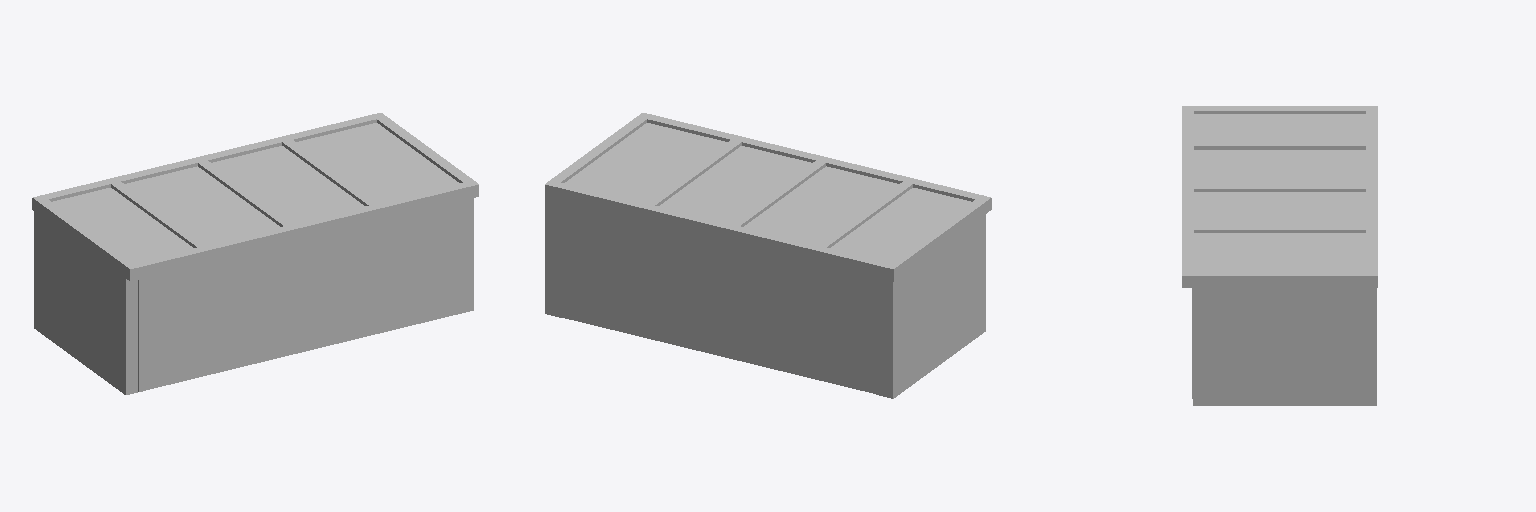
Rendered from CasaDescanso.obj.
3 views of the same model, side by side, from view 1: azimuth 30°, elevation 25°; view 2: azimuth 150°, elevation 25°; view 3: azimuth 270°, elevation 25° (orthographic).
Parts seen in each view (by area): view 1: group13_pasted__pCube5; view 2: group13_pasted__pCube5; view 3: group13_pasted__pCube5.
Boxes of the visible parts, x1=… form: group13_pasted__pCube5: x1=32, y1=113, x2=478, y2=394; group13_pasted__pCube5: x1=545, y1=113, x2=991, y2=398; group13_pasted__pCube5: x1=1182, y1=106, x2=1377, y2=405.
Size of the model in its own units: 7.62 by 2.71 by 3.71.